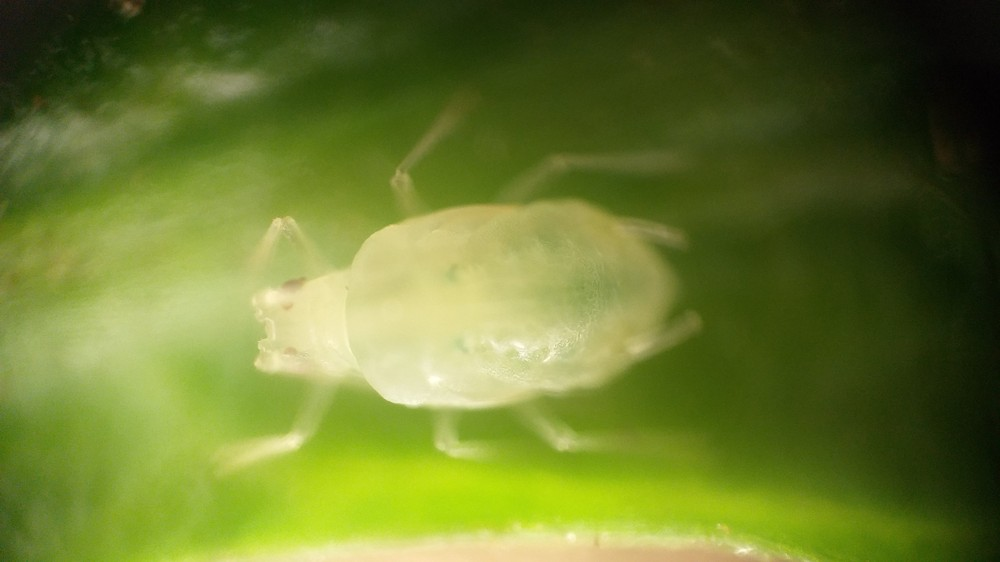Pulgon: (195, 101, 779, 494)
